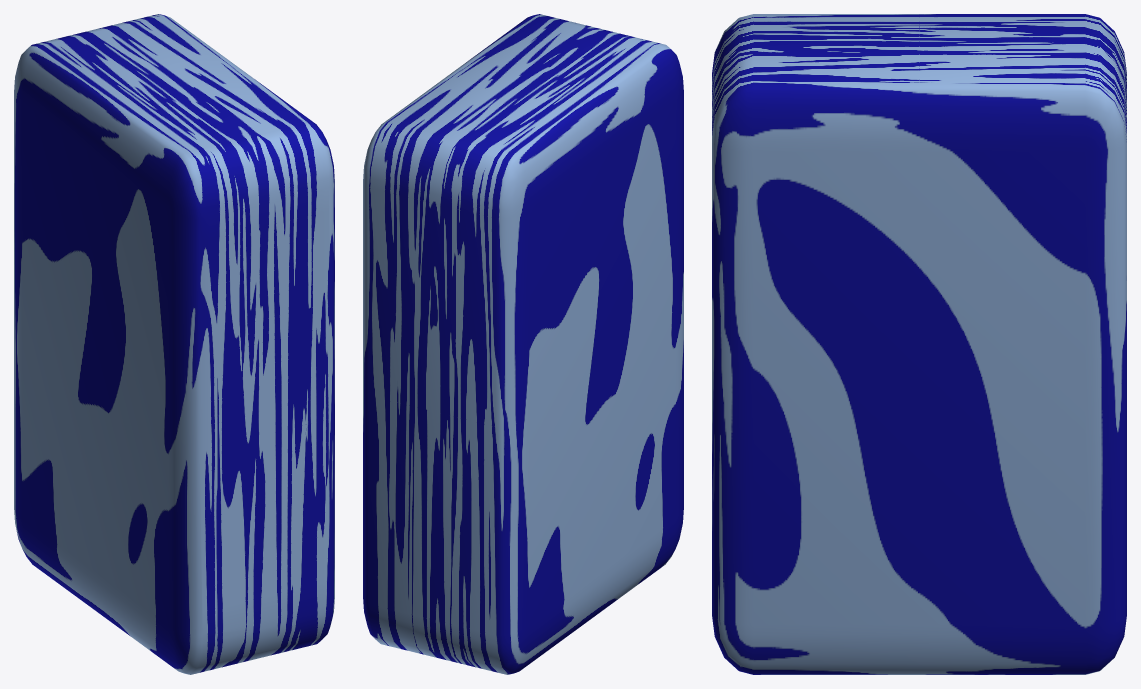
Rendered from yoga-block-camo-blue.glb.
The picture shows the model from 3 angles, left to right: view 1: azimuth 30°, elevation 25°; view 2: azimuth 150°, elevation 25°; view 3: azimuth 270°, elevation 25°; orthographic projection. The views are drawn at different scales.
Visible parts, largest first — view 1: Green-camo-yoga-block; view 2: Green-camo-yoga-block; view 3: Green-camo-yoga-block.
Part boxes in pixels (x1=…): Green-camo-yoga-block: x1=14, y1=14, x2=334, y2=674; Green-camo-yoga-block: x1=363, y1=14, x2=683, y2=674; Green-camo-yoga-block: x1=712, y1=14, x2=1126, y2=674.
Size of the model in its own units: 0.07 by 0.22 by 0.14.
Materials: 1 (1 with a texture image).
